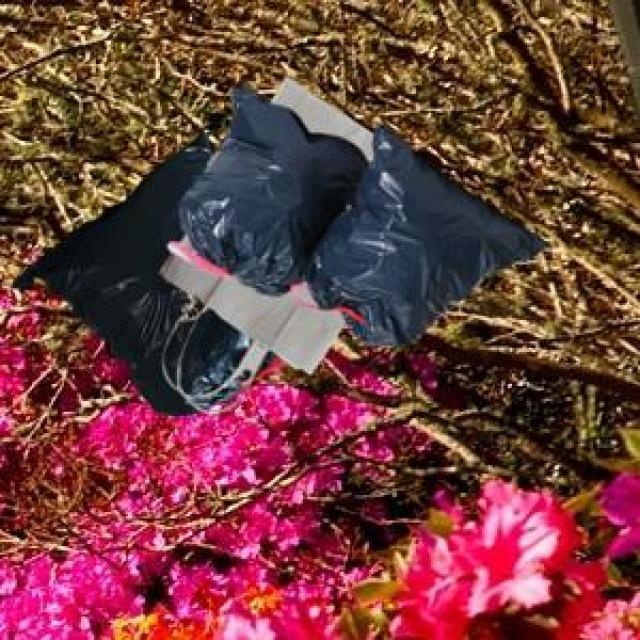miscellaneous trash: (164, 79, 546, 341), (9, 128, 282, 412)
paper: (156, 74, 371, 378)
